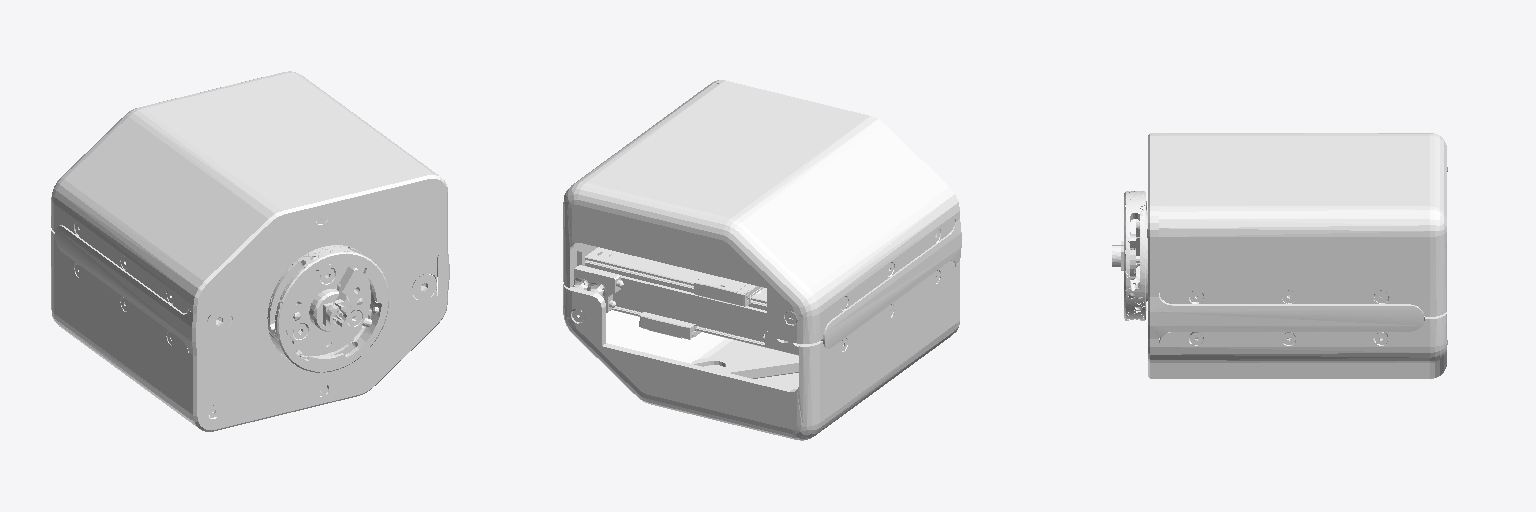
File: gripper_link.obj
The picture shows the model from 3 angles: view 1: azimuth 30°, elevation 25°; view 2: azimuth 150°, elevation 25°; view 3: azimuth 270°, elevation 25°; orthographic projection.
Parts seen in each view (by area): view 1: gripper_link; view 2: gripper_link; view 3: gripper_link.
Boxes of the visible parts, <box> form: gripper_link: <box>51,71,449,431</box>; gripper_link: <box>563,80,961,440</box>; gripper_link: <box>1112,133,1447,378</box>.
Bounding box in the file's own units: 0.1033 × 0.078 × 0.1163.